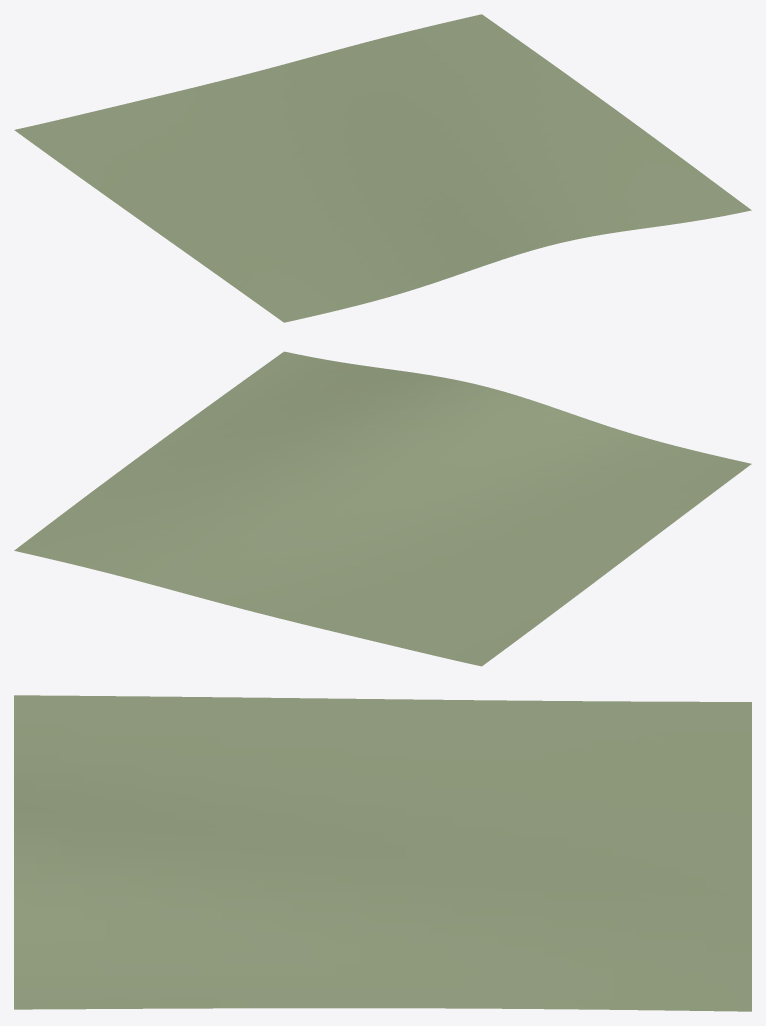
Rendered from desert-10-3.glb.
3 renders of one model, top to bottom at view 1: azimuth 30°, elevation 25°; view 2: azimuth 150°, elevation 25°; view 3: azimuth 270°, elevation 25°, orthographic. The views are drawn at different scales.
Parts seen in each view (by area): view 1: desert-10-3; view 2: desert-10-3; view 3: desert-10-3.
Part boxes in pixels (left/top/right/bottom): desert-10-3: left=14, top=14, right=751, bottom=322; desert-10-3: left=14, top=351, right=751, bottom=666; desert-10-3: left=14, top=695, right=751, bottom=1011.
Bounding box in the file's own units: 512 × 19.46 × 512.
